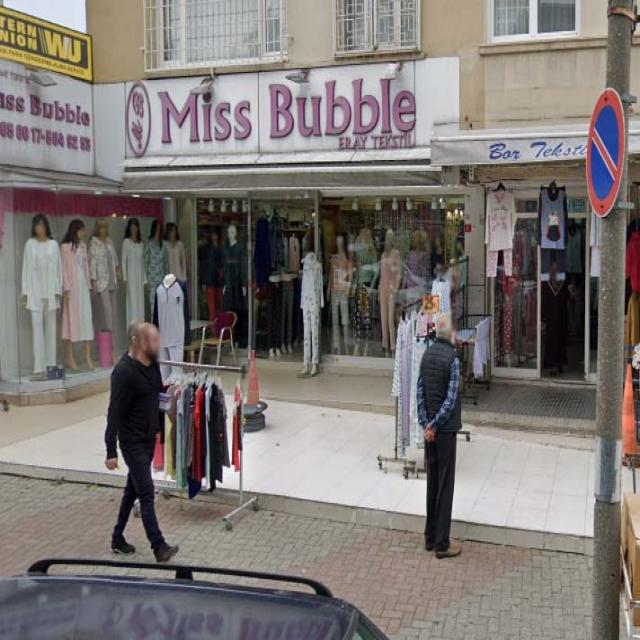parkyasak: (586, 87, 625, 218)
